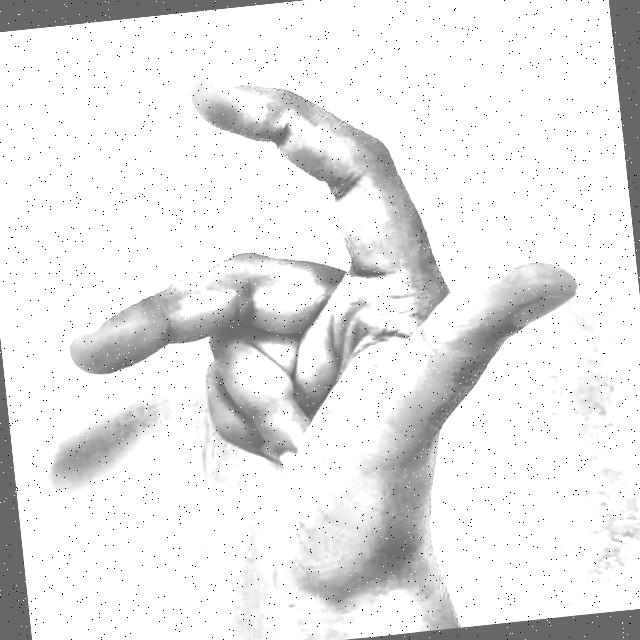Da: (9, 11, 624, 618)
